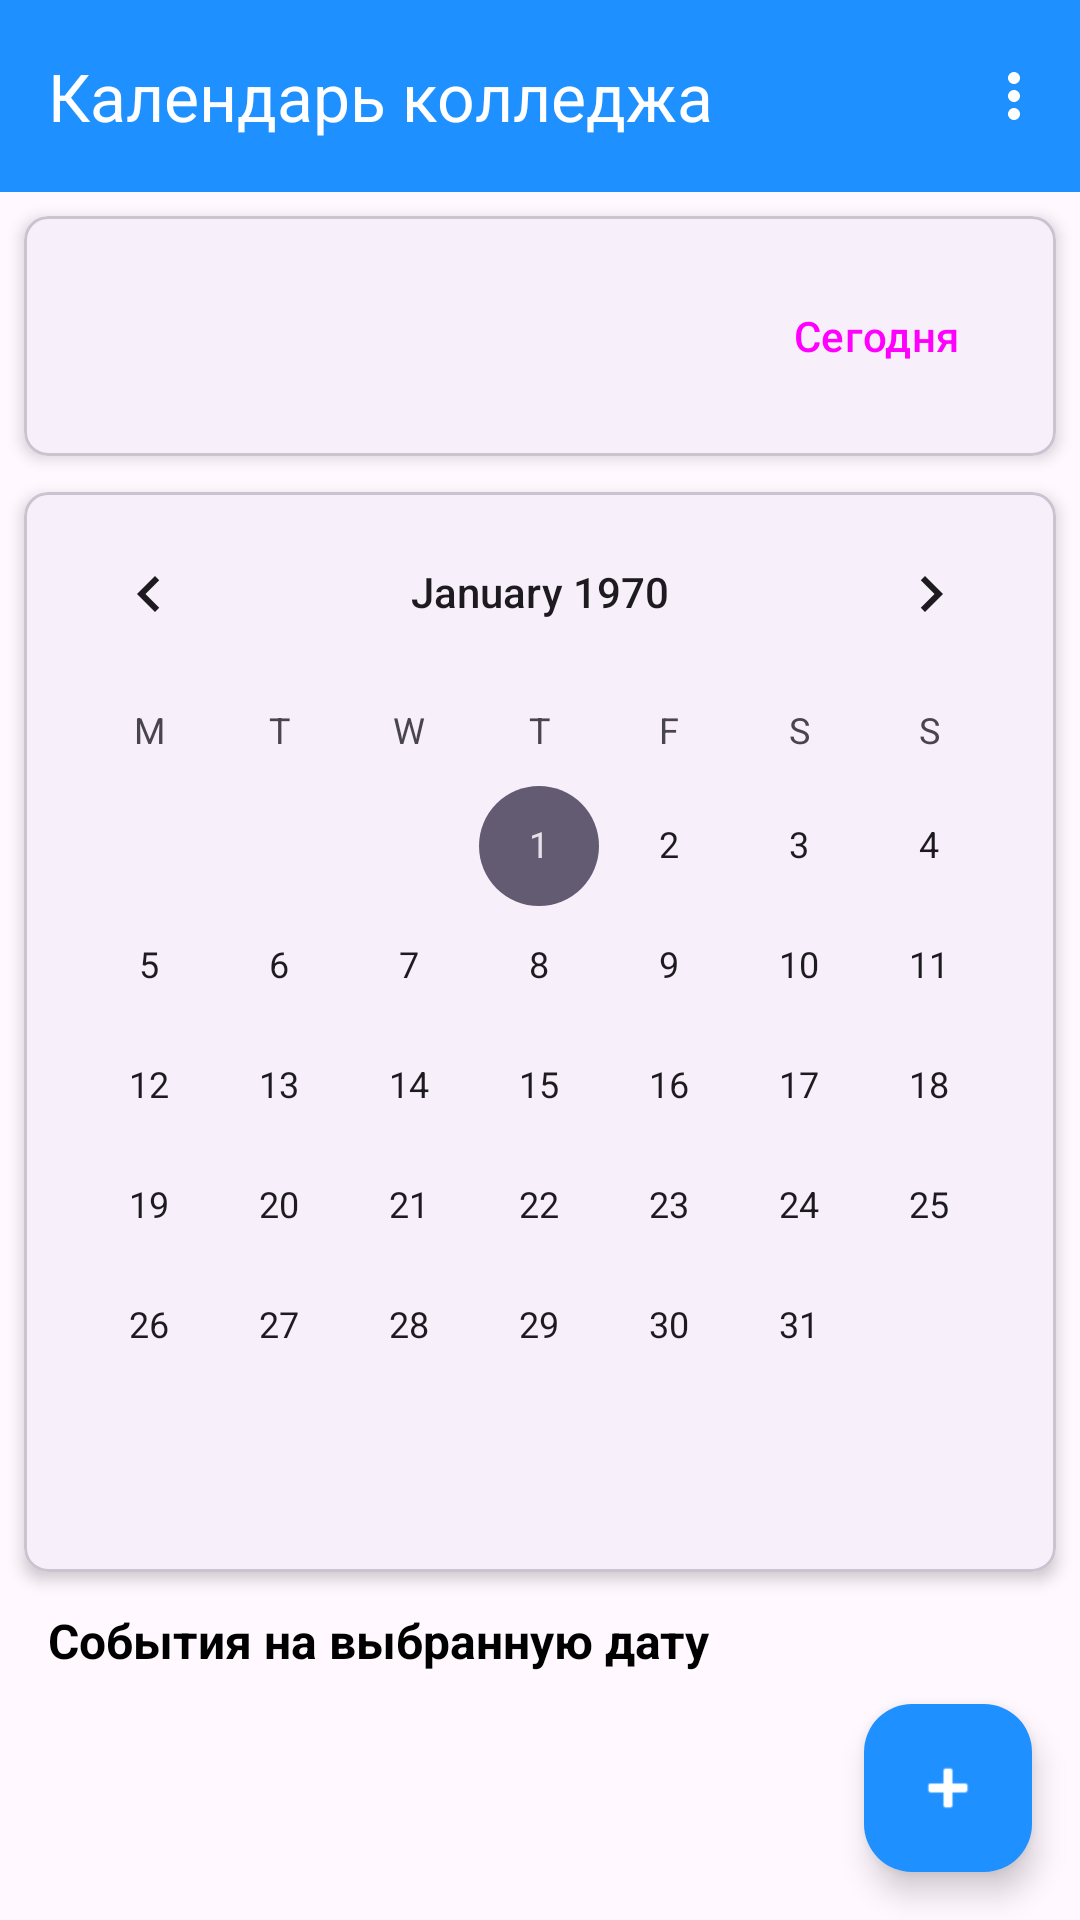

Locate icon controls on the screen. Image size 1080w x 1920h, boxes as (x1, y1, x2, y2).
Добавить событие: (864, 1704, 1032, 1872)
